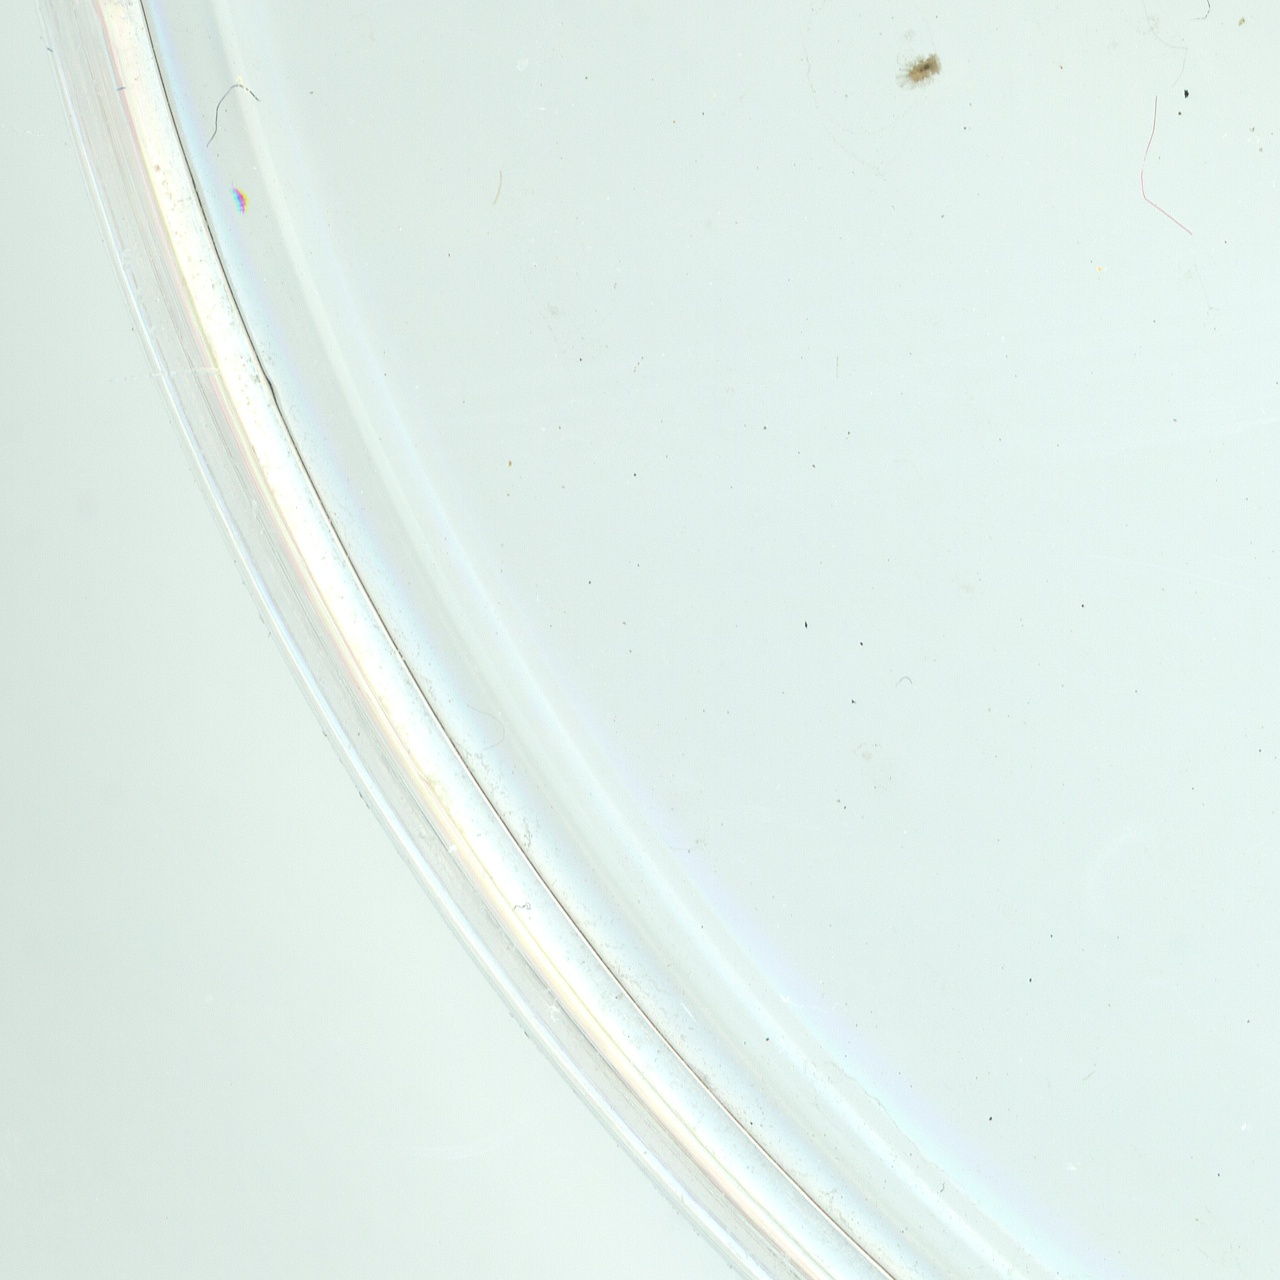arthropod: (893, 49, 947, 93)
